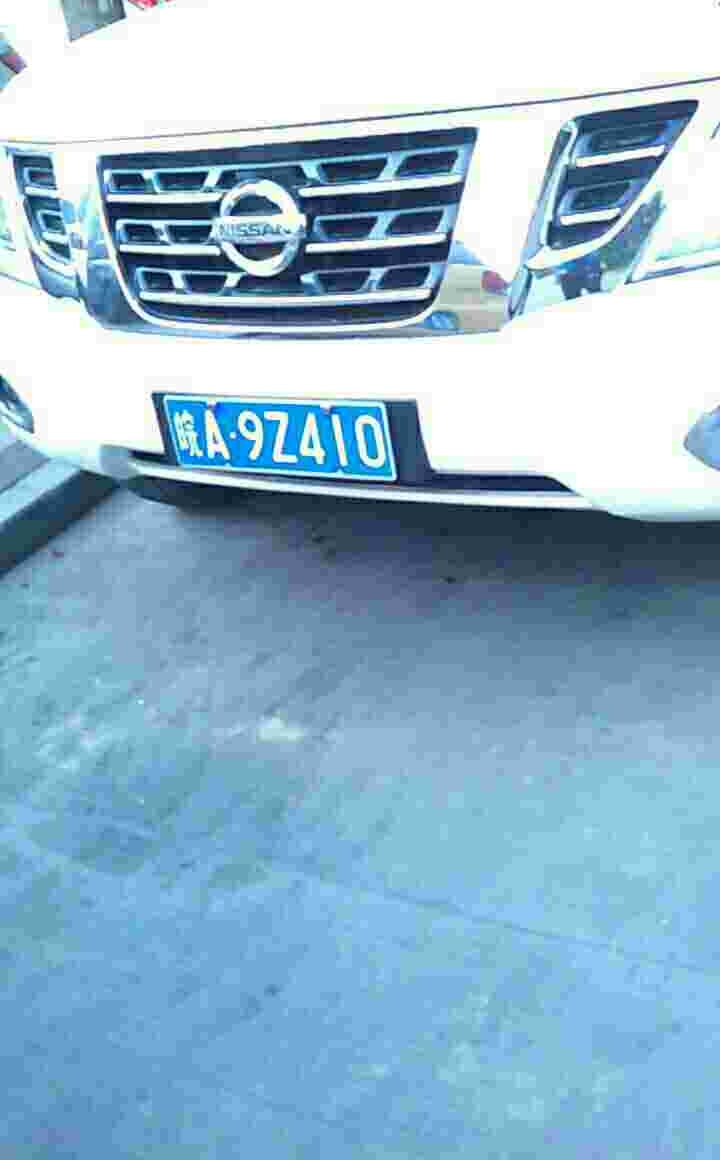license_plate: (171, 400, 390, 485)
